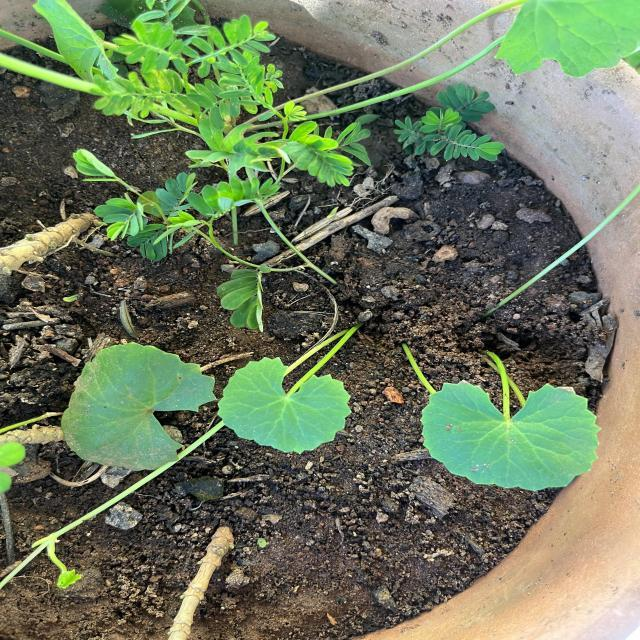Centella asiatica: (416, 377, 604, 494), (58, 338, 220, 473), (214, 354, 354, 458)
